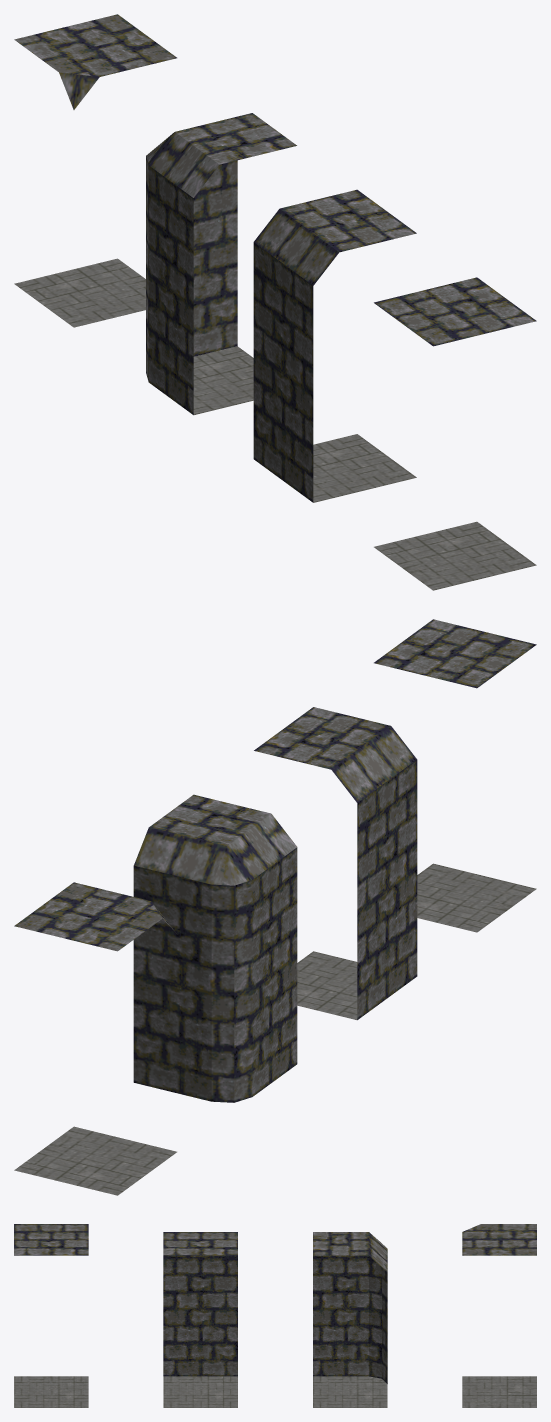
The model's file is wall1.glb.
3 renders of one model, top to bottom at view 1: azimuth 30°, elevation 25°; view 2: azimuth 150°, elevation 25°; view 3: azimuth 270°, elevation 25°, orthographic. The views are drawn at different scales.
Visible parts, largest first — view 1: wallCorner_col, wall_col, floorCeilCorner_col, floorCeil_col; view 2: wallCorner_col, wall_col, floorCeilCorner_col, floorCeil_col; view 3: wall_col, wallCorner_col, floorCeil_col, floorCeilCorner_col.
Boxes of the visible parts, box(x1,y1,x2,y2) form: wallCorner_col: box(146, 113, 296, 415); wall_col: box(253, 189, 416, 502); floorCeilCorner_col: box(14, 14, 176, 327); floorCeil_col: box(374, 277, 536, 590); wallCorner_col: box(133, 794, 297, 1102); wall_col: box(254, 707, 417, 1020); floorCeilCorner_col: box(14, 882, 176, 1195); floorCeil_col: box(374, 619, 536, 932); wall_col: box(163, 1232, 237, 1407); wallCorner_col: box(313, 1232, 387, 1407); floorCeil_col: box(14, 1224, 88, 1407); floorCeilCorner_col: box(462, 1224, 536, 1407).
Bounding box in the file's own units: 4 × 9 × 28.
1 material, 1 textured.
